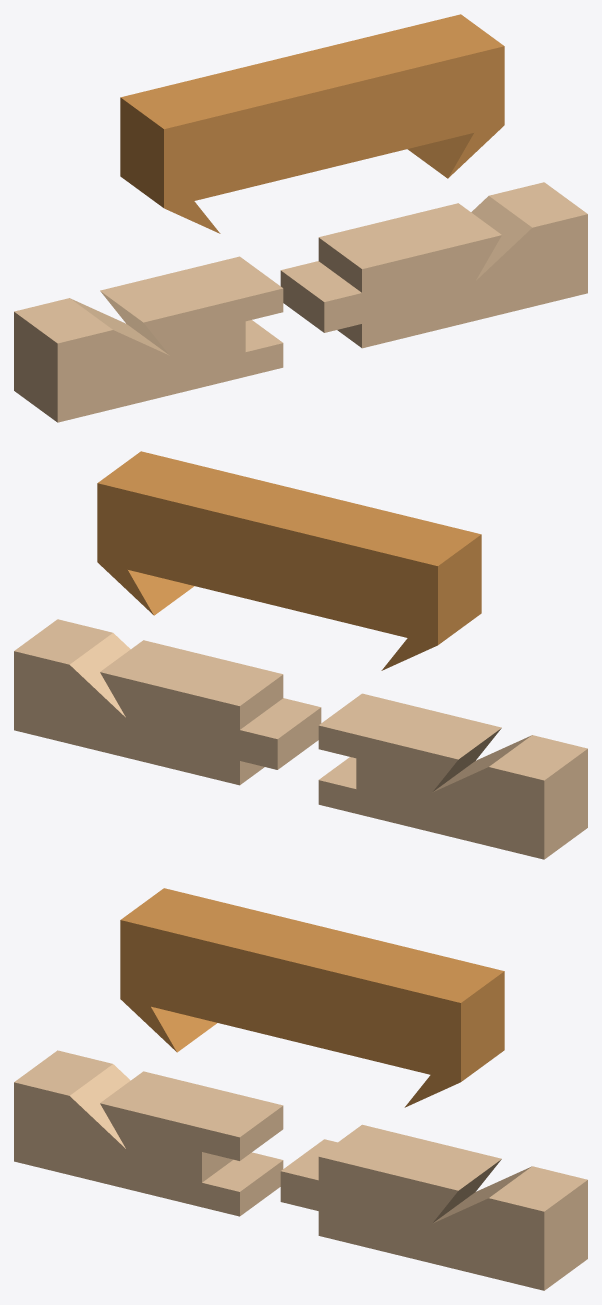
3 renders of one model, top to bottom at view 1: azimuth 30°, elevation 25°; view 2: azimuth 150°, elevation 25°; view 3: azimuth 330°, elevation 25°, orthographic.
Bounding box in the file's own units: 14.02 × 6.76 × 2.
